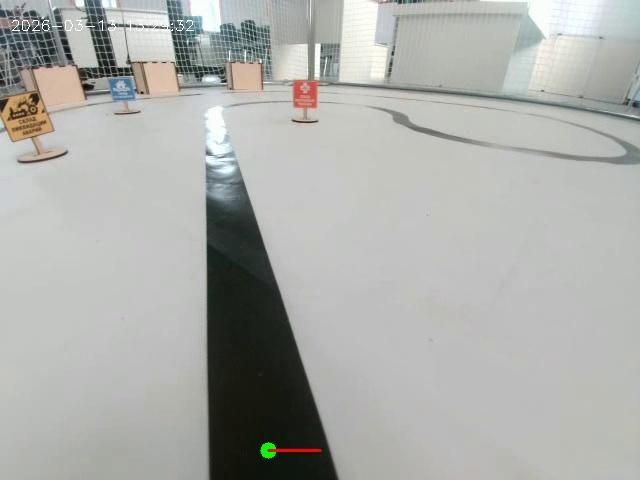flood: (106, 61, 145, 128)
industrial: (2, 78, 69, 174)
medical: (278, 71, 331, 131)
